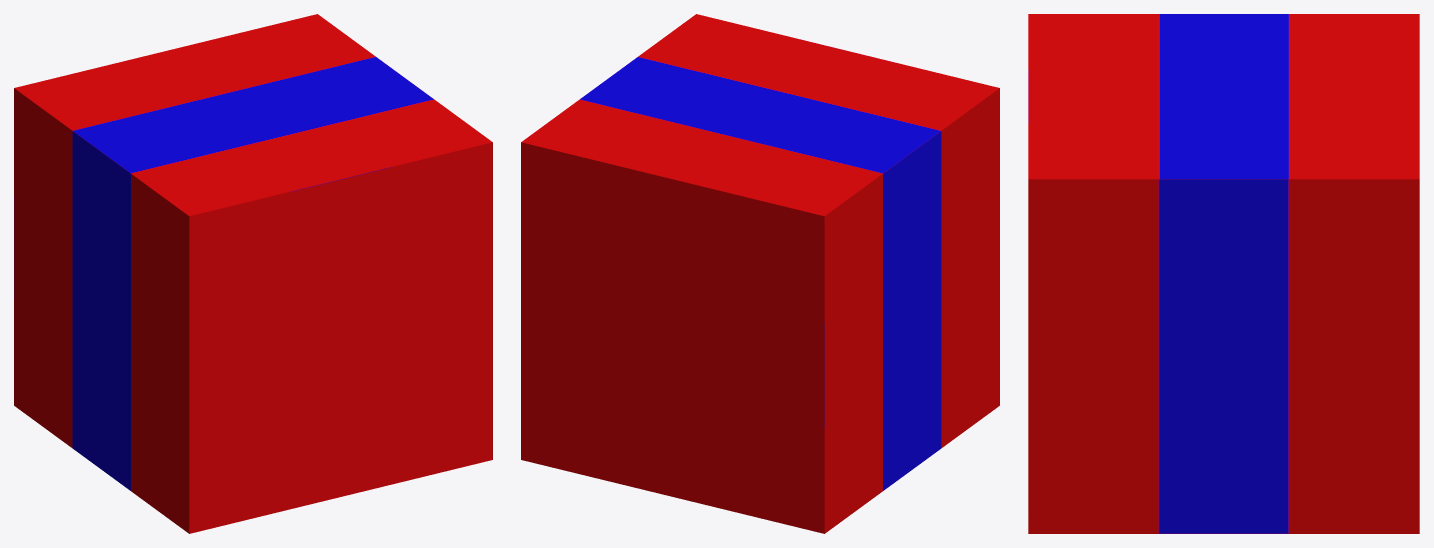
The model's file is multtest.fbx.
3 views of the same model, side by side, from view 1: azimuth 30°, elevation 25°; view 2: azimuth 150°, elevation 25°; view 3: azimuth 270°, elevation 25° (orthographic). The views are drawn at different scales.
Visible parts, largest first — view 1: Cube; view 2: Cube; view 3: Cube.
Part boxes in pixels (x1,y1,x2,y2): Cube: (14, 14, 492, 533); Cube: (521, 14, 999, 533); Cube: (1028, 14, 1419, 533).
Bounding box in the file's own units: 200 × 200 × 200.
1 material, 1 textured.
